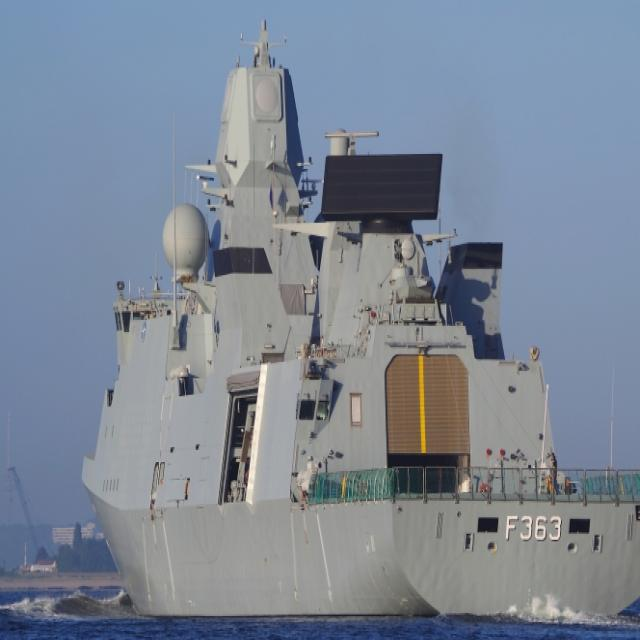Fragata: (67, 22, 640, 629)
